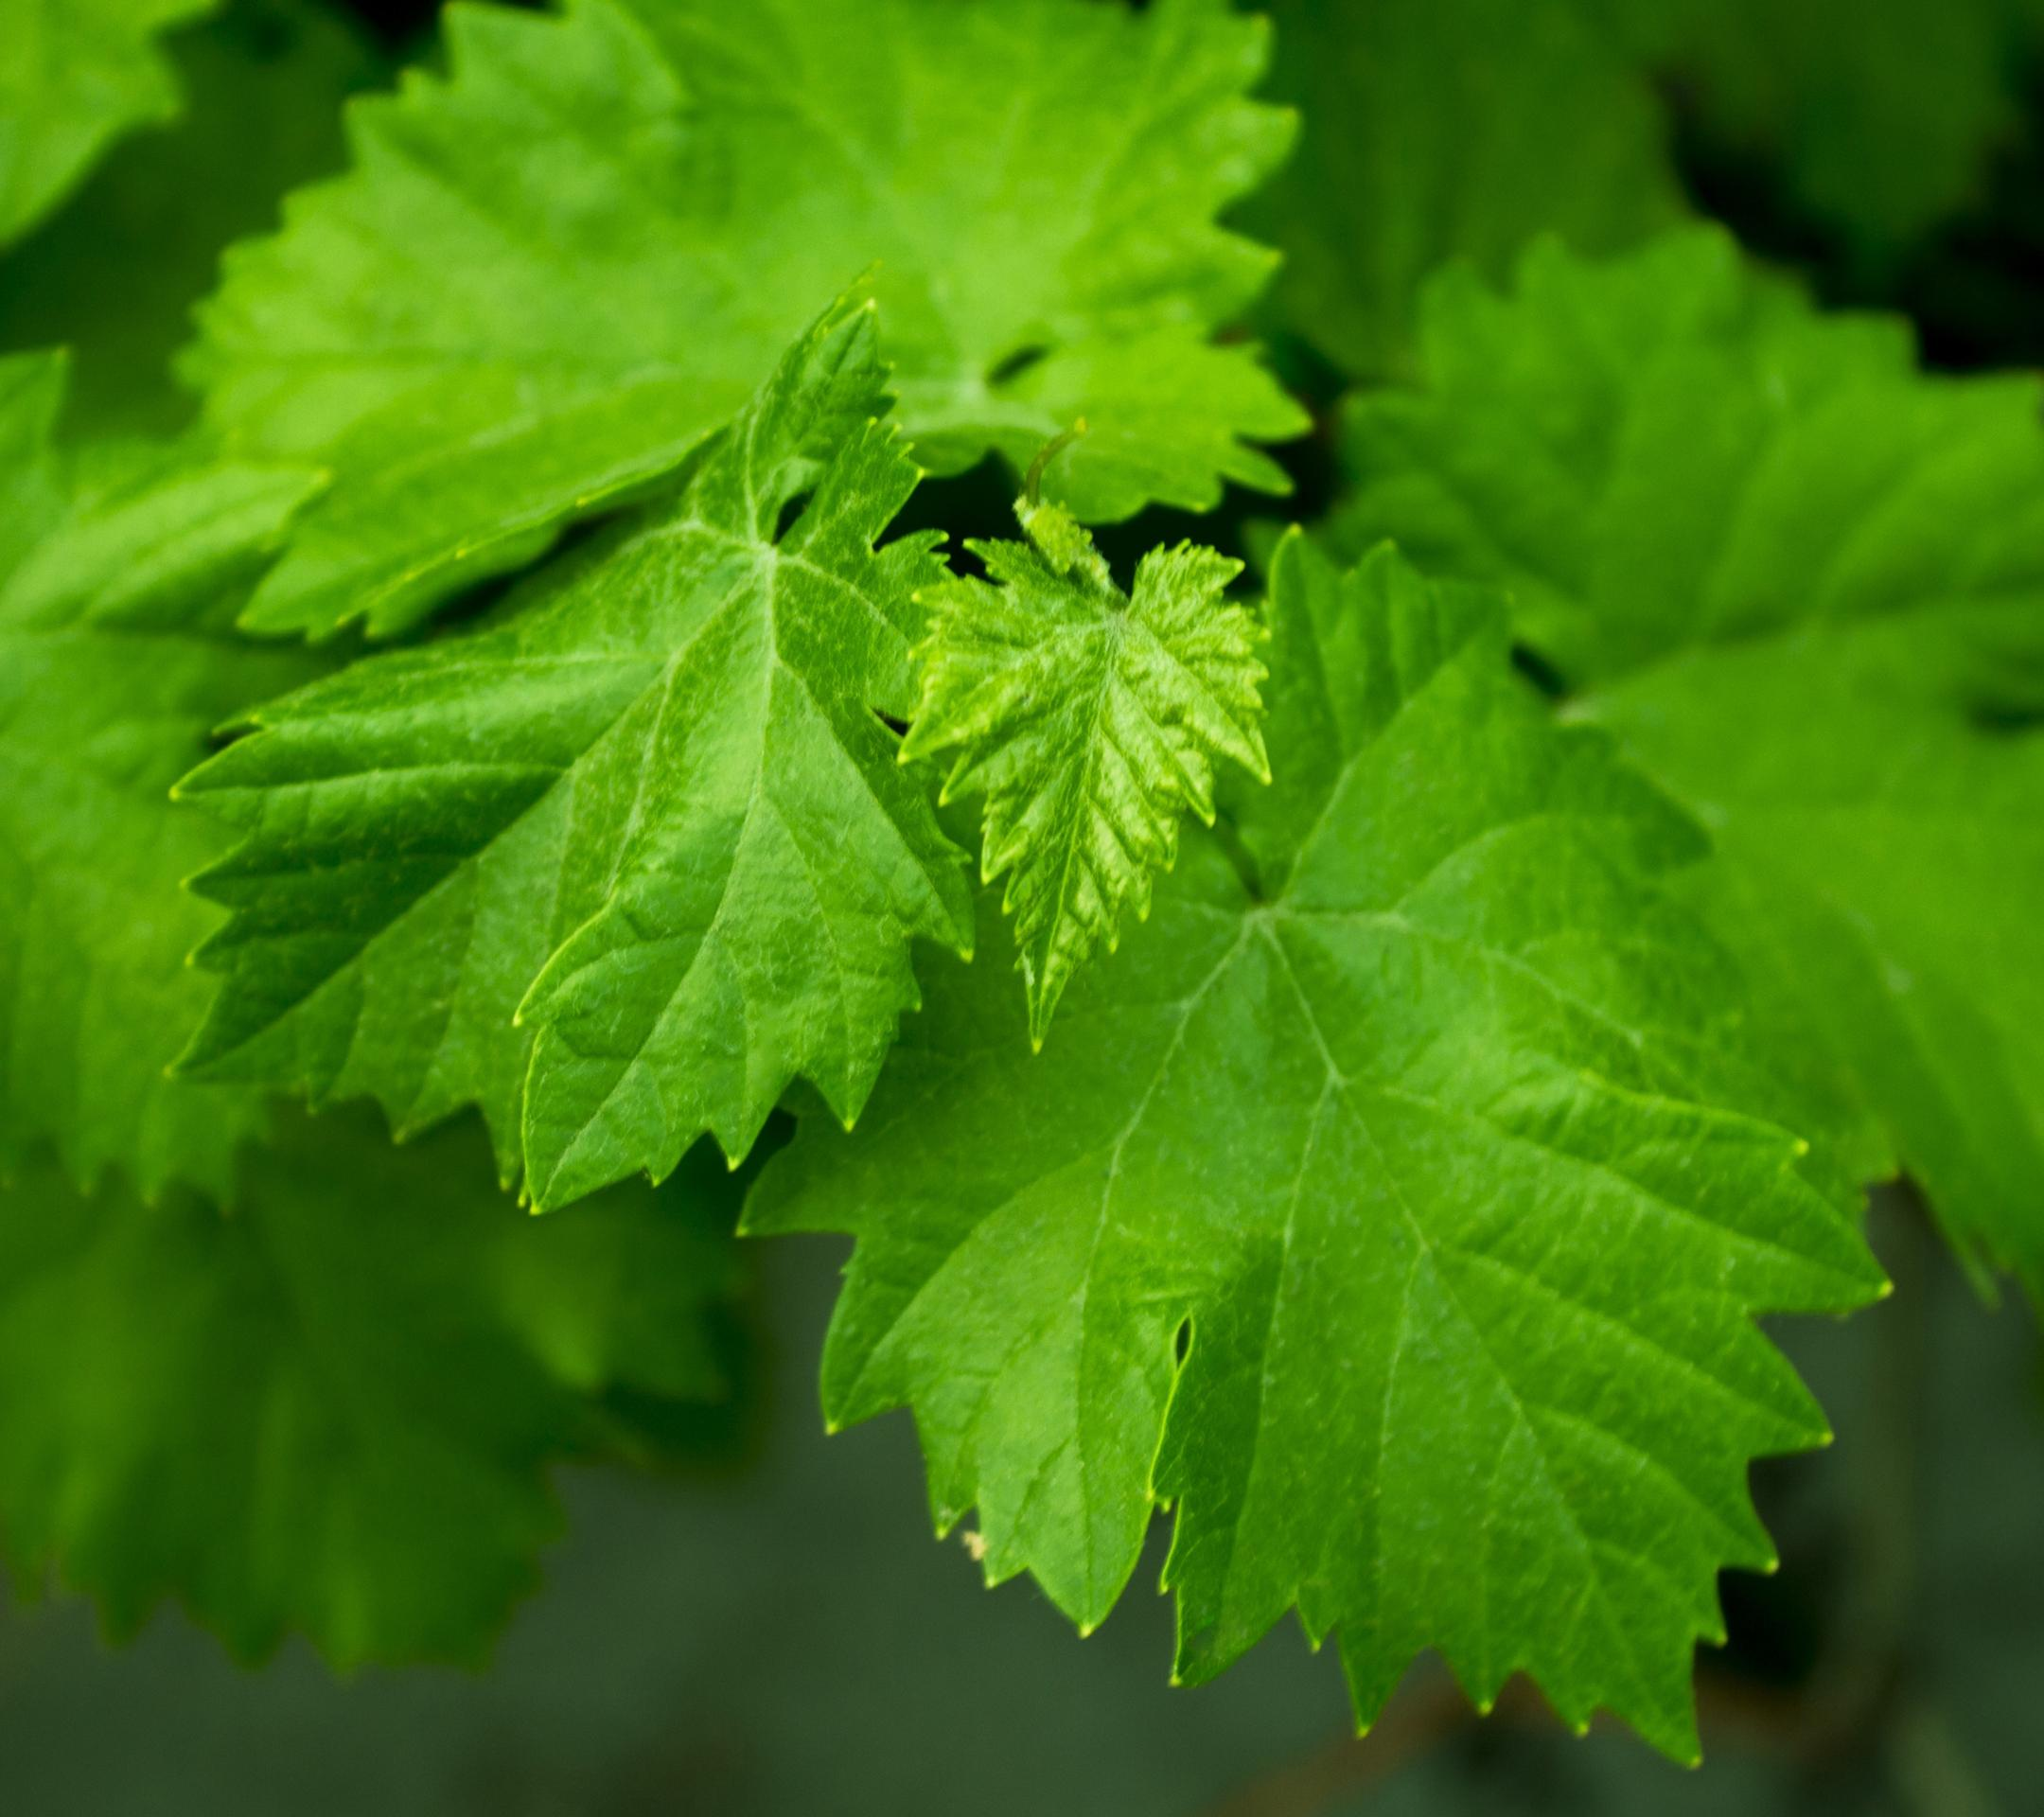grape leaf black rot: (794, 635, 1921, 1715), (131, 316, 971, 1193), (195, 2, 1327, 644), (812, 491, 1301, 1066)
